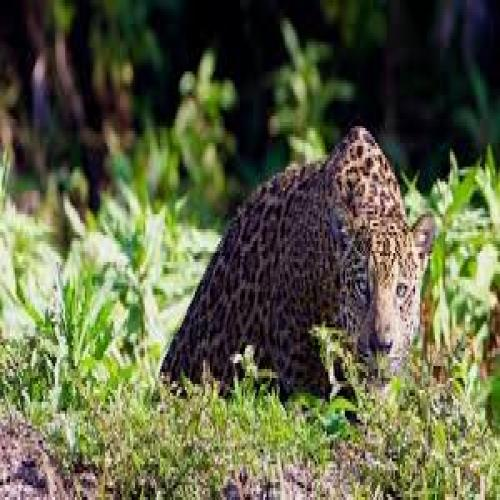jaguar_not-endangered: (167, 128, 441, 403)
